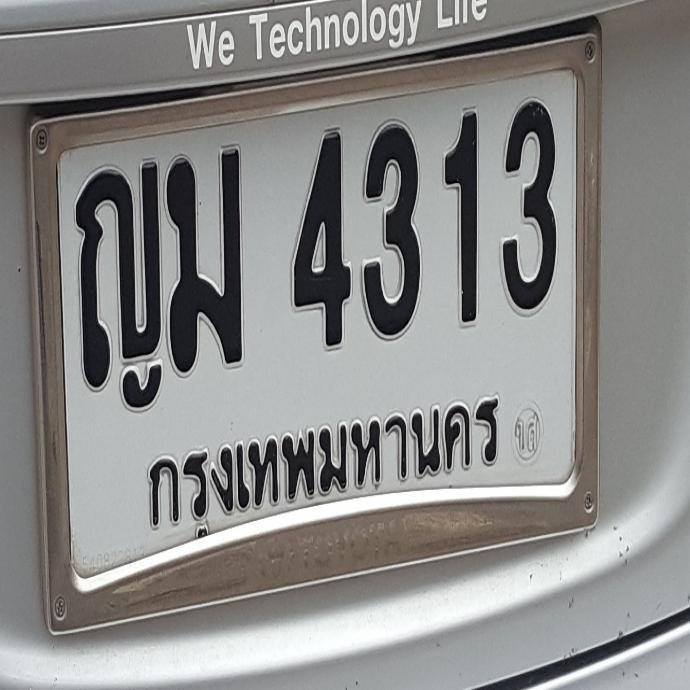1: (435, 105, 483, 327)
3: (348, 117, 432, 339), (491, 94, 565, 317)
4: (275, 122, 362, 352)
A13: (63, 157, 171, 394)
A33: (152, 139, 254, 375)
BKK: (133, 381, 513, 552)
